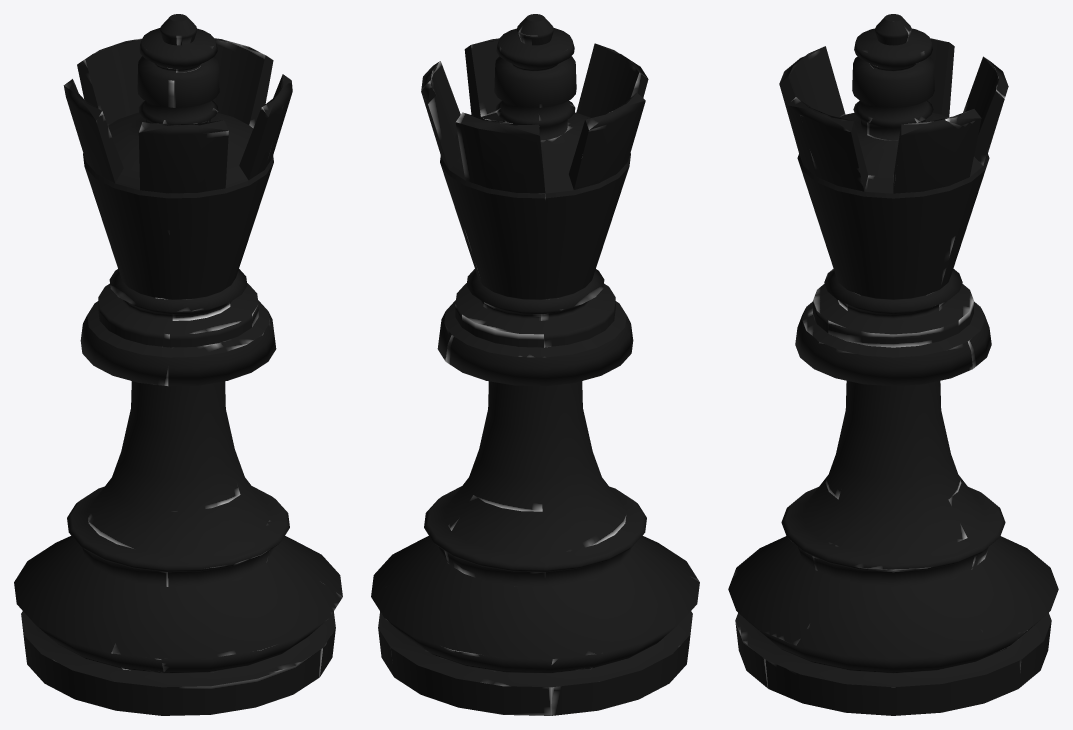
File: King_Black.fbx
3 views of the same model, side by side, from view 1: azimuth 30°, elevation 25°; view 2: azimuth 150°, elevation 25°; view 3: azimuth 270°, elevation 25° (orthographic).
Parts seen in each view (by area): view 1: raja2.001; view 2: raja2.001; view 3: raja2.001.
Part boxes in pixels (<box>): raja2.001: <box>14,14,342,715</box>; raja2.001: <box>371,14,699,715</box>; raja2.001: <box>728,14,1058,715</box>.
Bounding box in the file's own units: 2.41 × 5.09 × 2.41.
